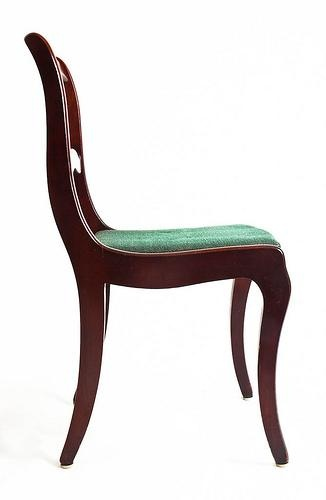obstacle: (25, 33, 289, 465)
